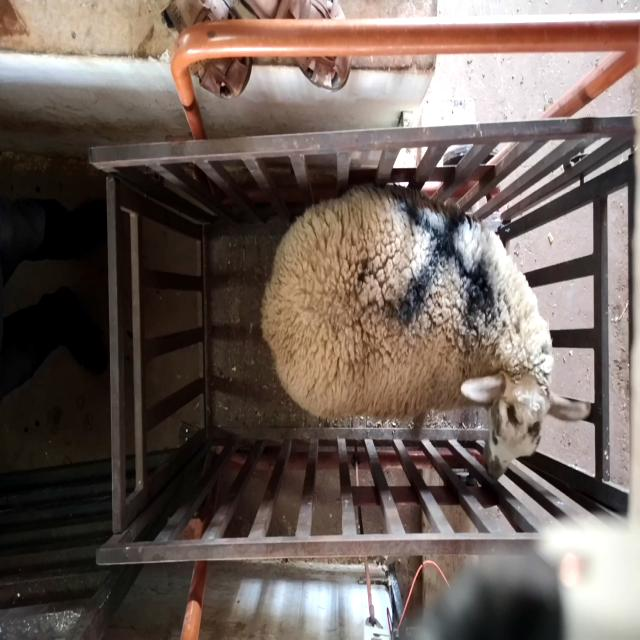sheep: (260, 184, 592, 477)
